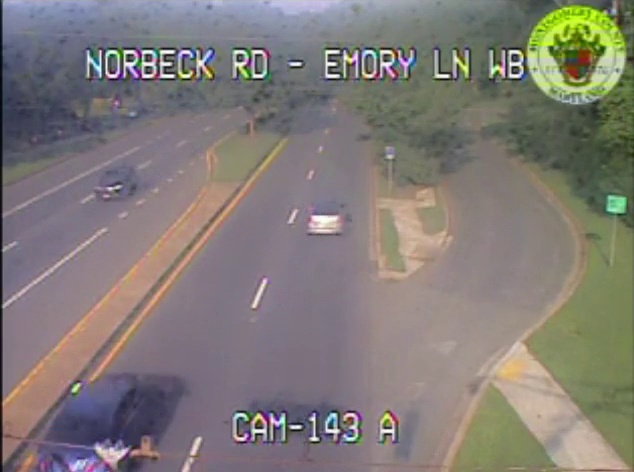car: (34, 374, 163, 472), (309, 203, 345, 233)
